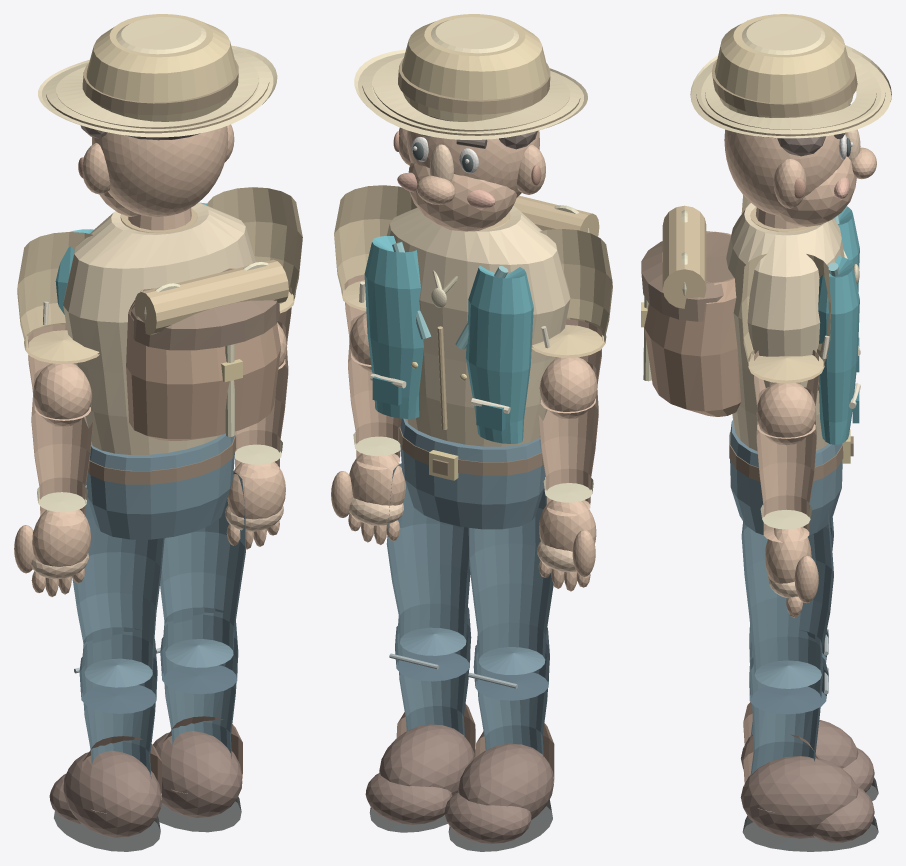
File: A04_idle_weighted_pose_diagnostic.glb
3 views of the same model, side by side, from view 1: azimuth 30°, elevation 25°; view 2: azimuth 150°, elevation 25°; view 3: azimuth 270°, elevation 25° (orthographic). The views are drawn at different scales.
Visible parts, largest first — view 1: world; view 2: world; view 3: world.
Boxes of the visible parts, x1,y1,x2,y2 form: world: [14, 14, 302, 851]; world: [331, 14, 612, 851]; world: [641, 14, 891, 851].
Bounding box in the file's own units: 0.676 × 1.87 × 0.5421.
